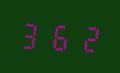six: (46, 19, 72, 53)
three: (18, 17, 44, 52)
two: (73, 20, 99, 55)
